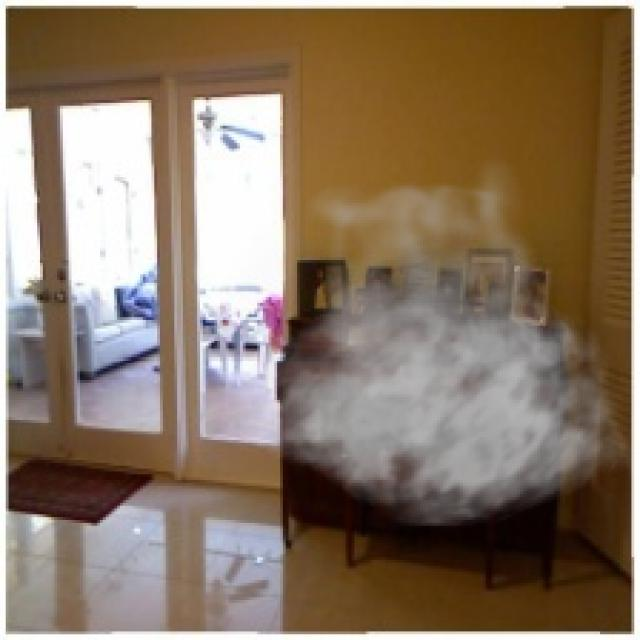smoke: (237, 148, 632, 528)
